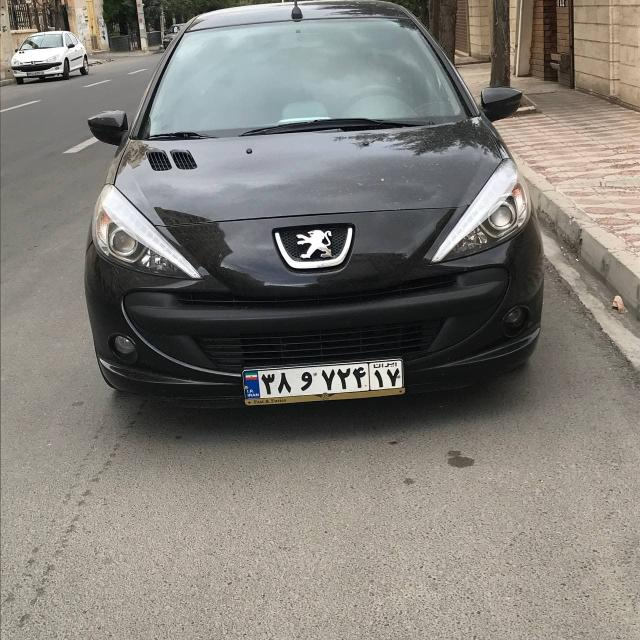Plates: (243, 358, 404, 400)
